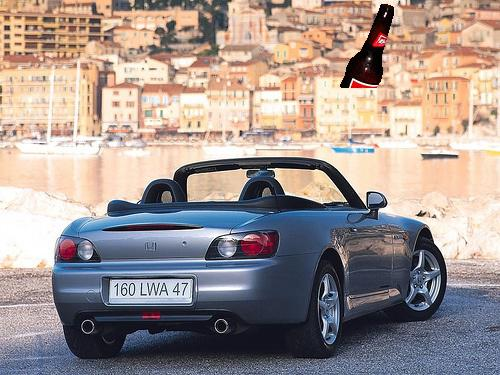tampered: (341, 5, 394, 88)
